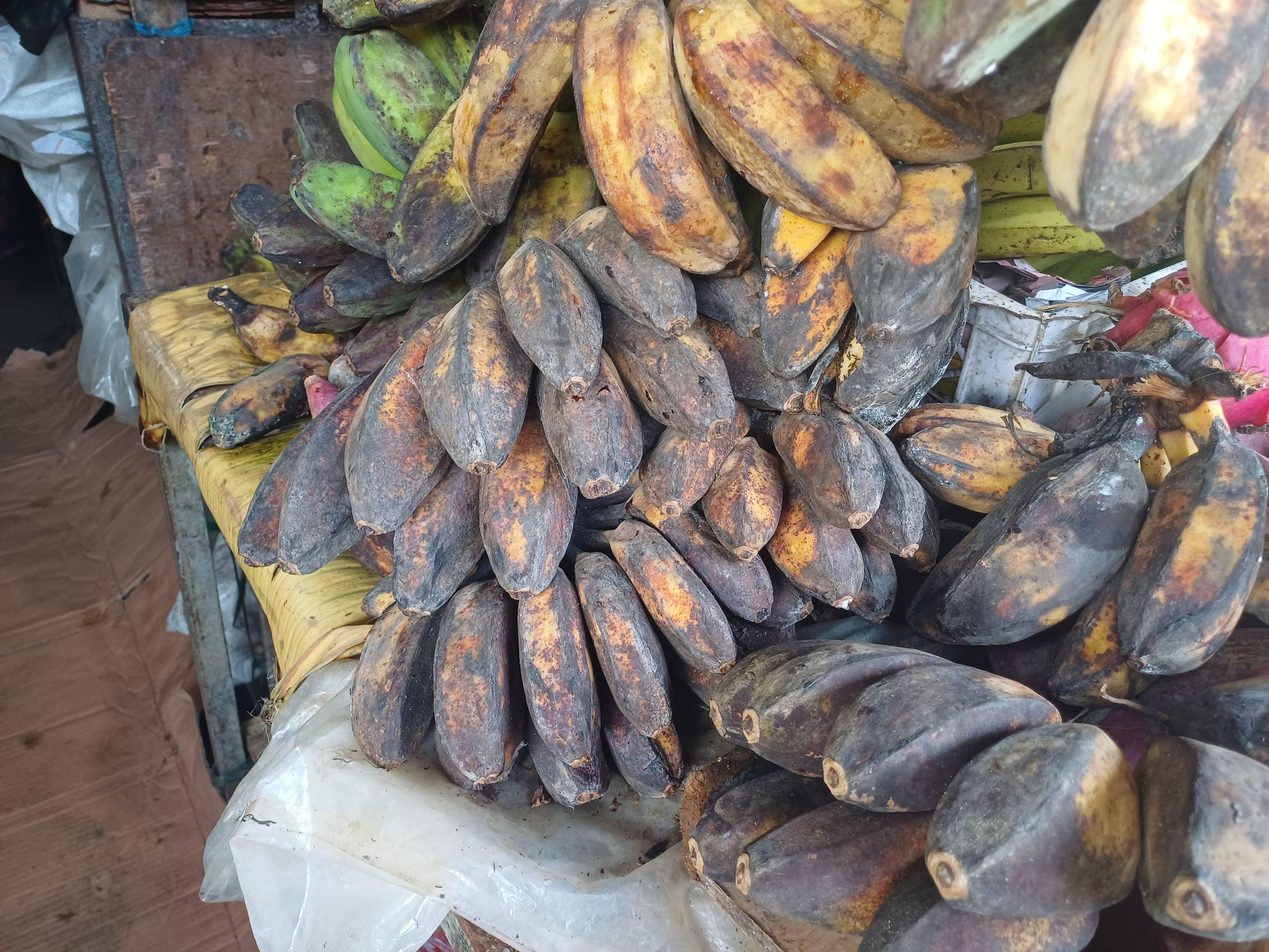overripe: (240, 207, 801, 613), (685, 640, 1269, 952), (352, 511, 773, 806), (890, 404, 1269, 704), (641, 400, 939, 620), (755, 164, 980, 431)
ripe: (453, 0, 1000, 274)
underripe: (227, 14, 602, 378)
